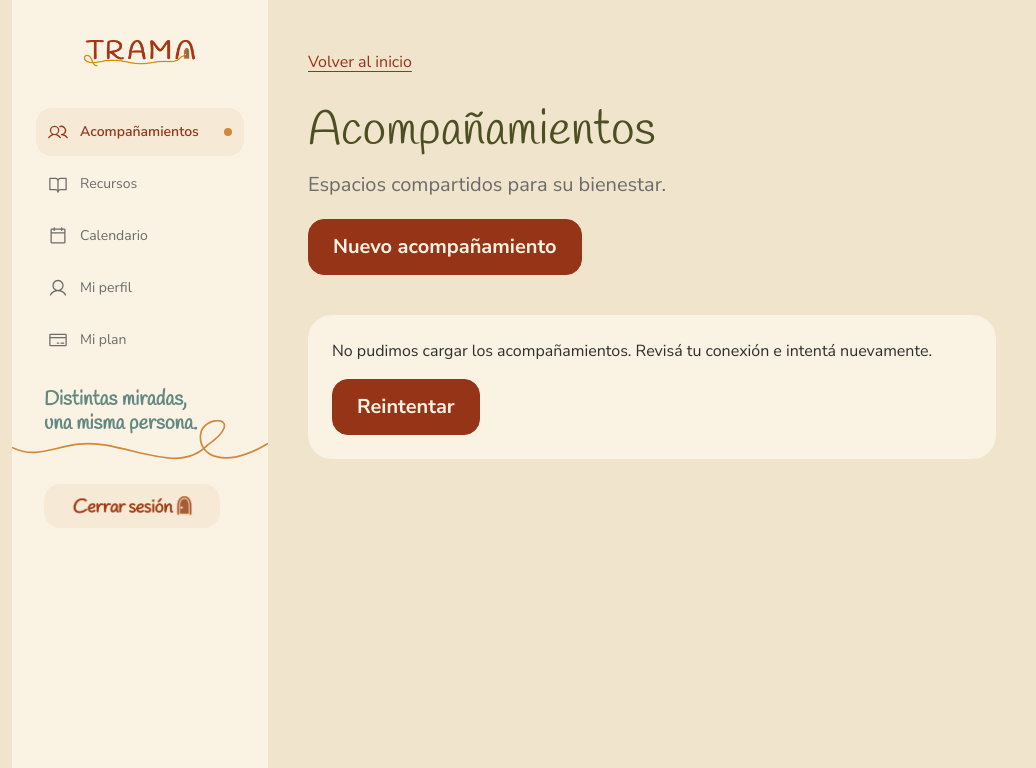
Test case: Estados y datos de Acompañamientos › recupera la lista al reintentar un error de conexión
expect the message is shown: met, box [332, 339, 972, 363]
Click the button "Reintentar": coordinates (406, 407) [332, 379, 480, 435]
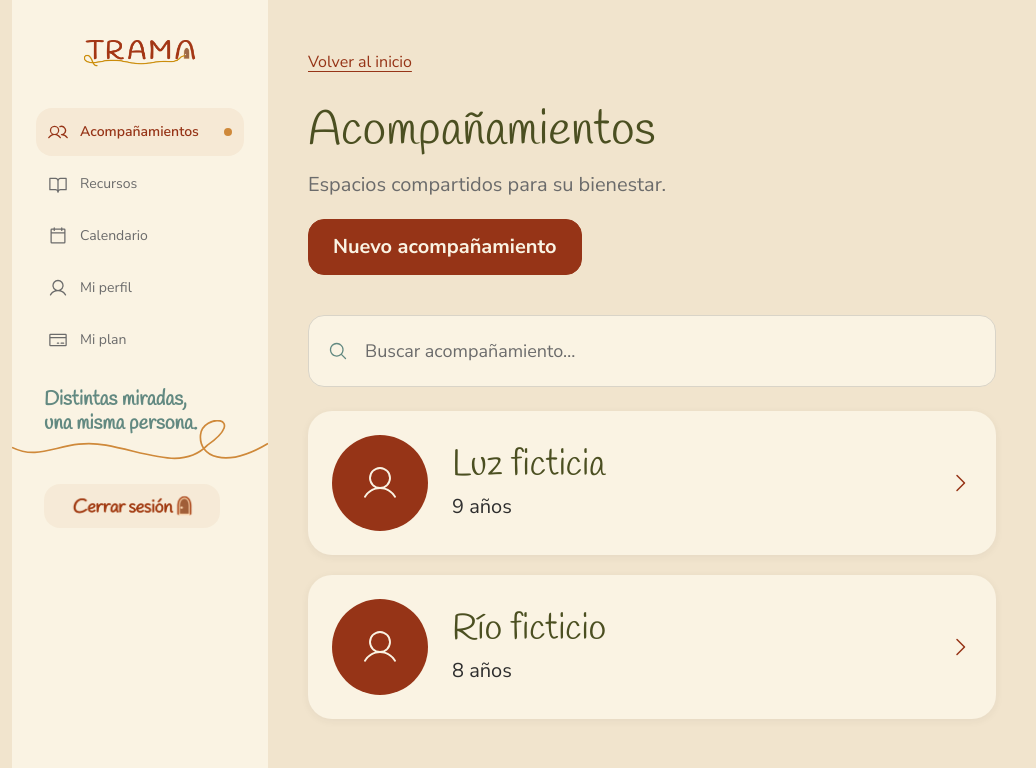
expect the link with aria-label "Ver perfil de Luz ficticia" is shown: met, box [308, 411, 996, 555]
